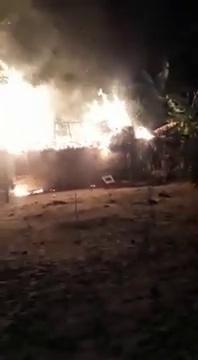fire: (88, 105, 143, 148)
